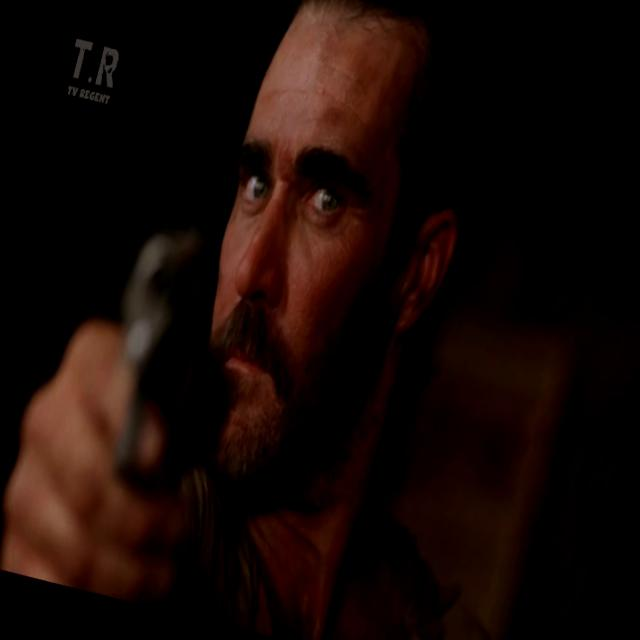handgun: (49, 161, 290, 522)
